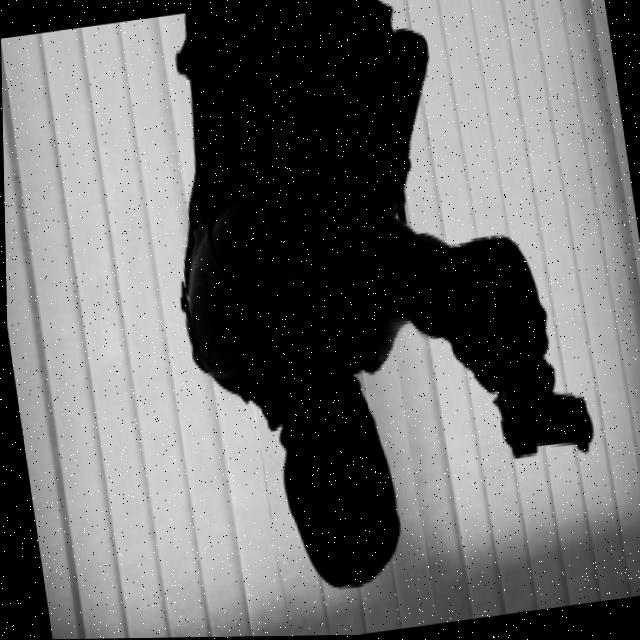pistol: (492, 382, 594, 464)
